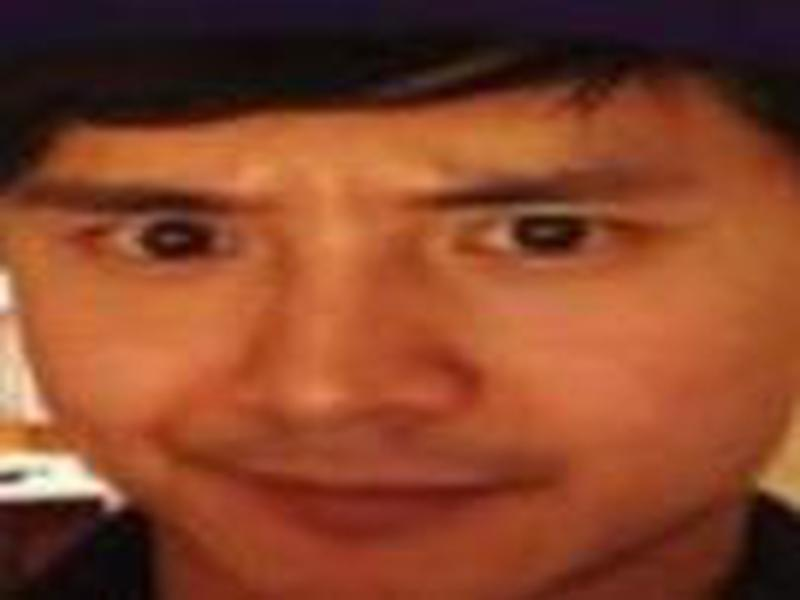without_mask: (6, 53, 800, 600)
